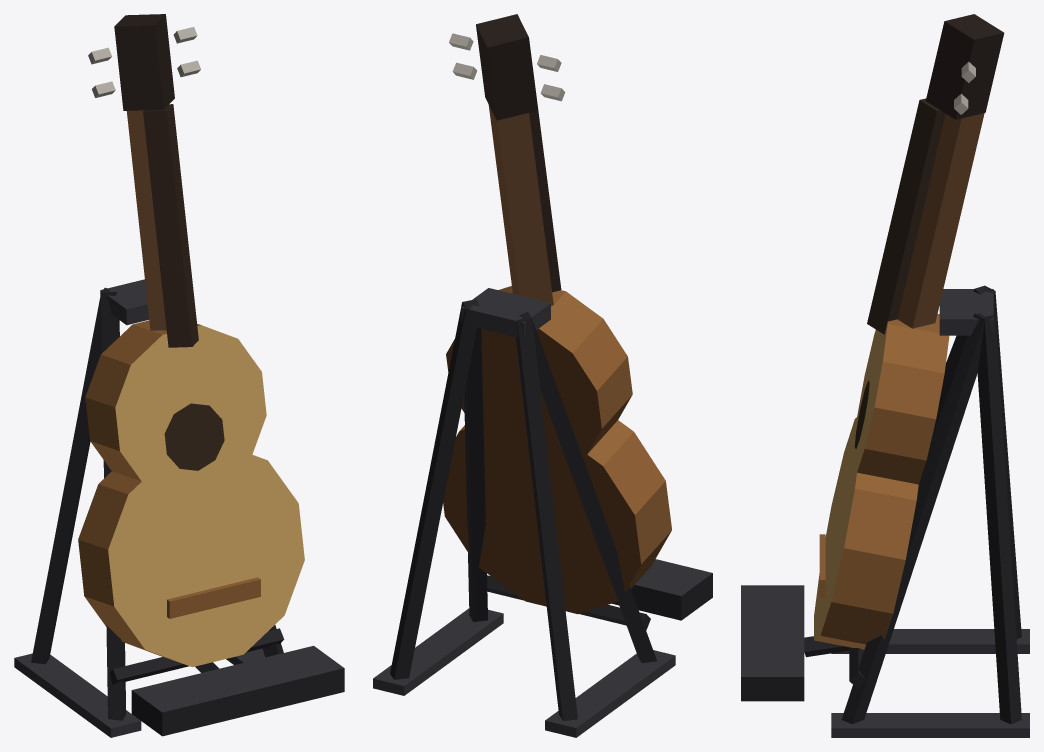
File: guitar_stand.fbx
The picture shows the model from 3 angles, left to right: view 1: azimuth 30°, elevation 25°; view 2: azimuth 150°, elevation 25°; view 3: azimuth 270°, elevation 25°; orthographic projection. The views are drawn at different scales.
Parts seen in each view (by area): view 1: guitar_stand; view 2: guitar_stand; view 3: guitar_stand.
Boxes of the visible parts, <box> form: guitar_stand: <box>14,14,344,737</box>; guitar_stand: <box>373,14,712,737</box>; guitar_stand: <box>741,14,1029,737</box>.
Bounding box in the file's own units: 0.26 × 0.8197 × 0.32.
